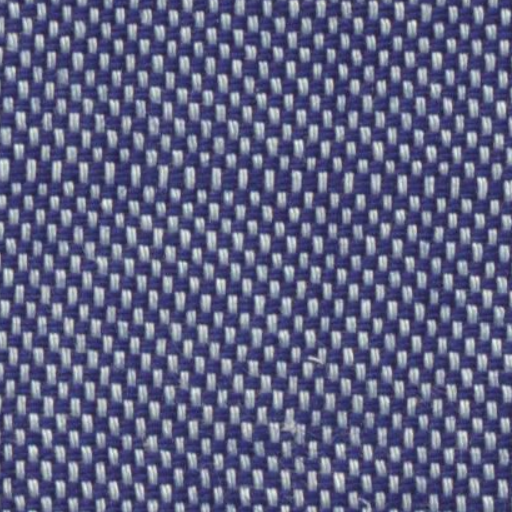TuoSha: (18, 131, 497, 228)
